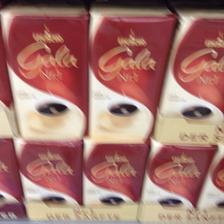Kaffee: (88, 3, 176, 142), (0, 3, 88, 139), (162, 4, 222, 124), (140, 139, 216, 205), (14, 139, 82, 206), (83, 140, 147, 204)
